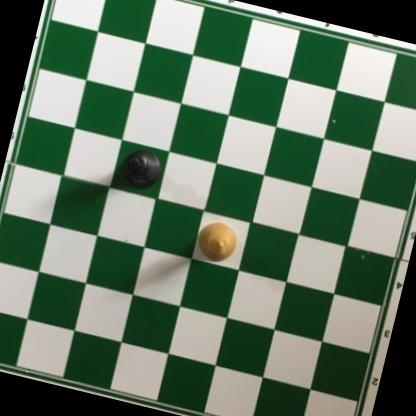black-king: (117, 141, 168, 195)
white-king: (193, 217, 243, 267)
